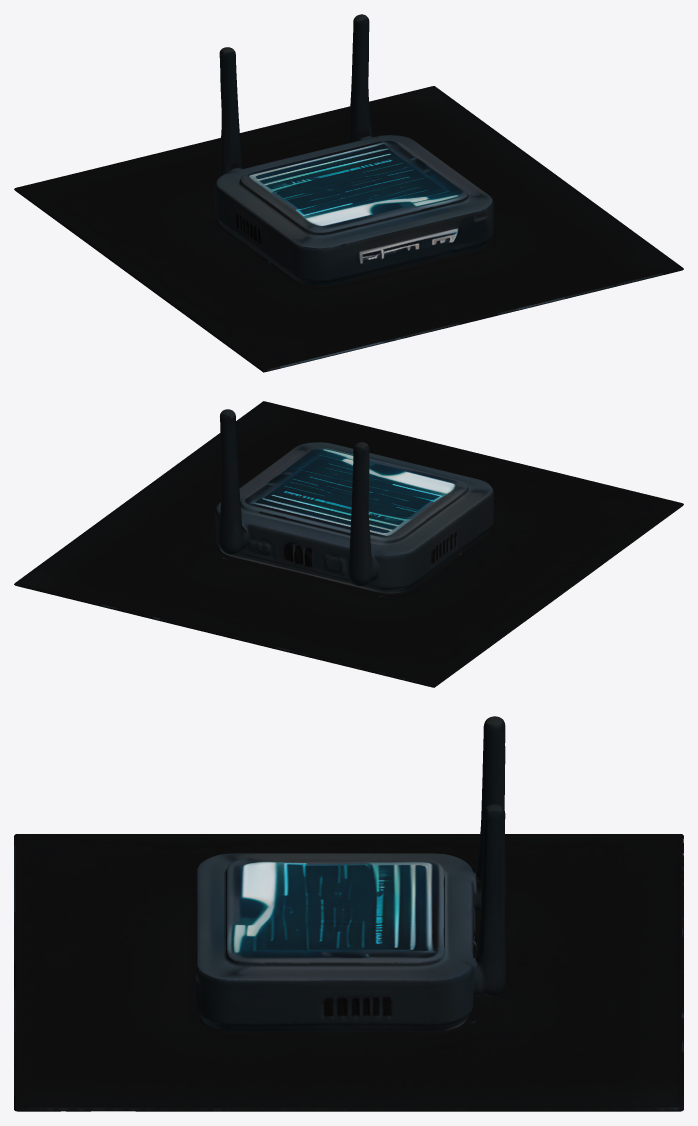
The model's file is WirelessRouter.glb.
3 views of the same model, one above another, from view 1: azimuth 30°, elevation 25°; view 2: azimuth 150°, elevation 25°; view 3: azimuth 270°, elevation 25° (orthographic). The views are drawn at different scales.
Parts seen in each view (by area): view 1: WirelessRouter; view 2: WirelessRouter; view 3: WirelessRouter.
Part boxes in pixels (bbox=[...]): WirelessRouter: bbox=[14, 14, 683, 372]; WirelessRouter: bbox=[14, 401, 683, 687]; WirelessRouter: bbox=[14, 716, 683, 1111].
Size of the model in its own units: 1.94 by 0.7038 by 1.99.
1 material, 1 textured.
